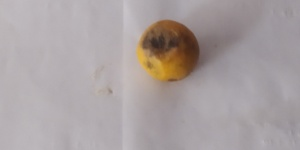BAD: (136, 19, 200, 80)
